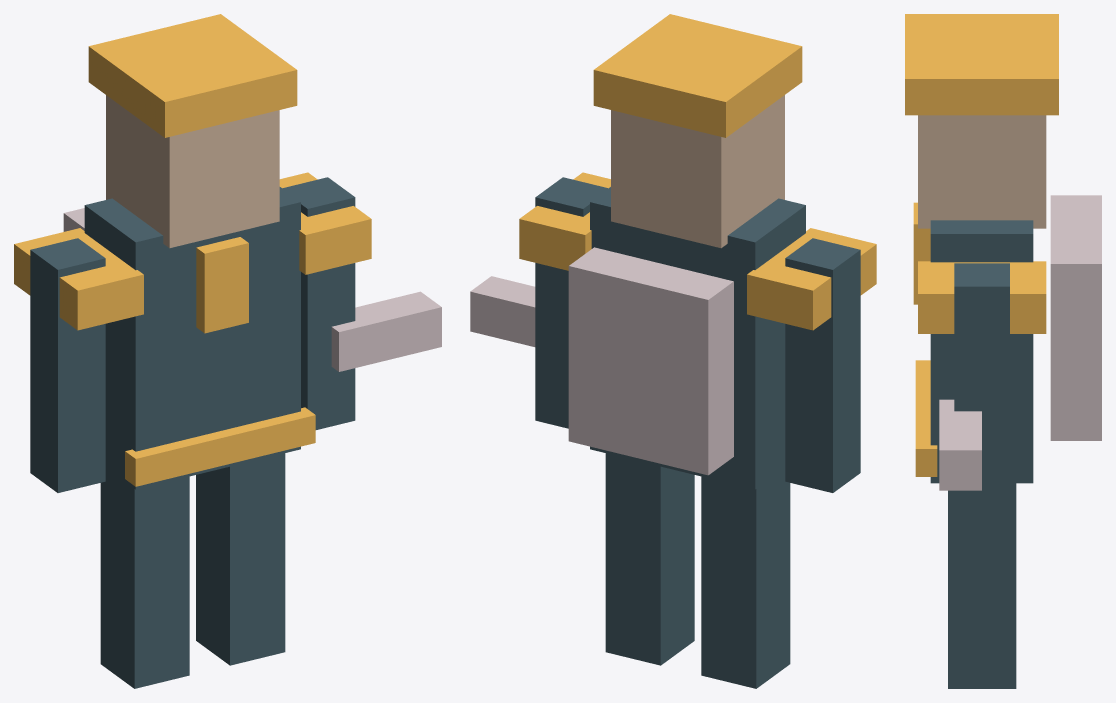
File: 03_bex_deepwell_herald_of_temporal.glb
3 renders of one model, left to right at view 1: azimuth 30°, elevation 25°; view 2: azimuth 150°, elevation 25°; view 3: azimuth 270°, elevation 25°, orthographic.
Visible parts, largest first — view 1: Bex Deepwell, Herald of Temporal; view 2: Bex Deepwell, Herald of Temporal; view 3: Bex Deepwell, Herald of Temporal.
Boxes of the visible parts, x1,y1,x2,y2 form: Bex Deepwell, Herald of Temporal: [14, 14, 441, 688]; Bex Deepwell, Herald of Temporal: [470, 14, 876, 688]; Bex Deepwell, Herald of Temporal: [905, 14, 1101, 688].
Size of the model in its own units: 0.9463 by 1.44 by 0.4247.
